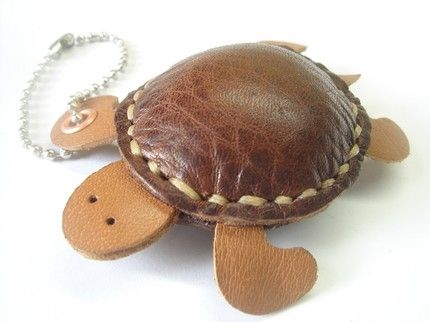cuero: (114, 42, 372, 222)
